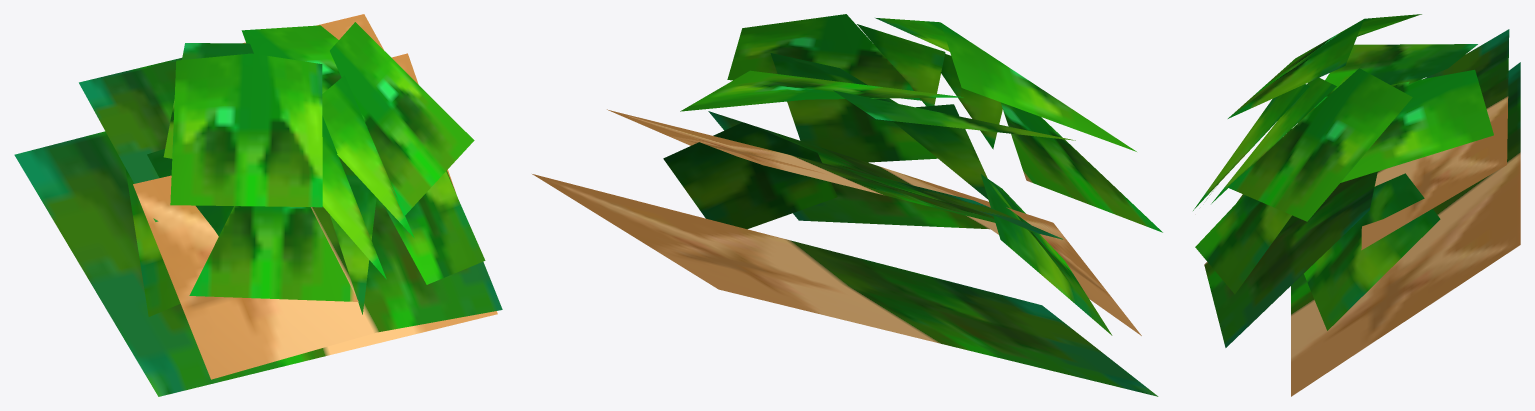
File: fg_bushE_2.dae
3 renders of one model, left to right at view 1: azimuth 30°, elevation 25°; view 2: azimuth 150°, elevation 25°; view 3: azimuth 270°, elevation 25°, orthographic. The views are drawn at different scales.
Visible parts, largest first — view 1: fg_bushE_2; view 2: fg_bushE_2; view 3: fg_bushE_2.
Boxes of the visible parts, x1,y1,x2,y2 form: fg_bushE_2: (14,14,502,396); fg_bushE_2: (532,14,1162,396); fg_bushE_2: (1193,14,1520,396).
Size of the model in its own units: 50.84 by 35.08 by 37.48.
Materials: 1 (1 with a texture image).
